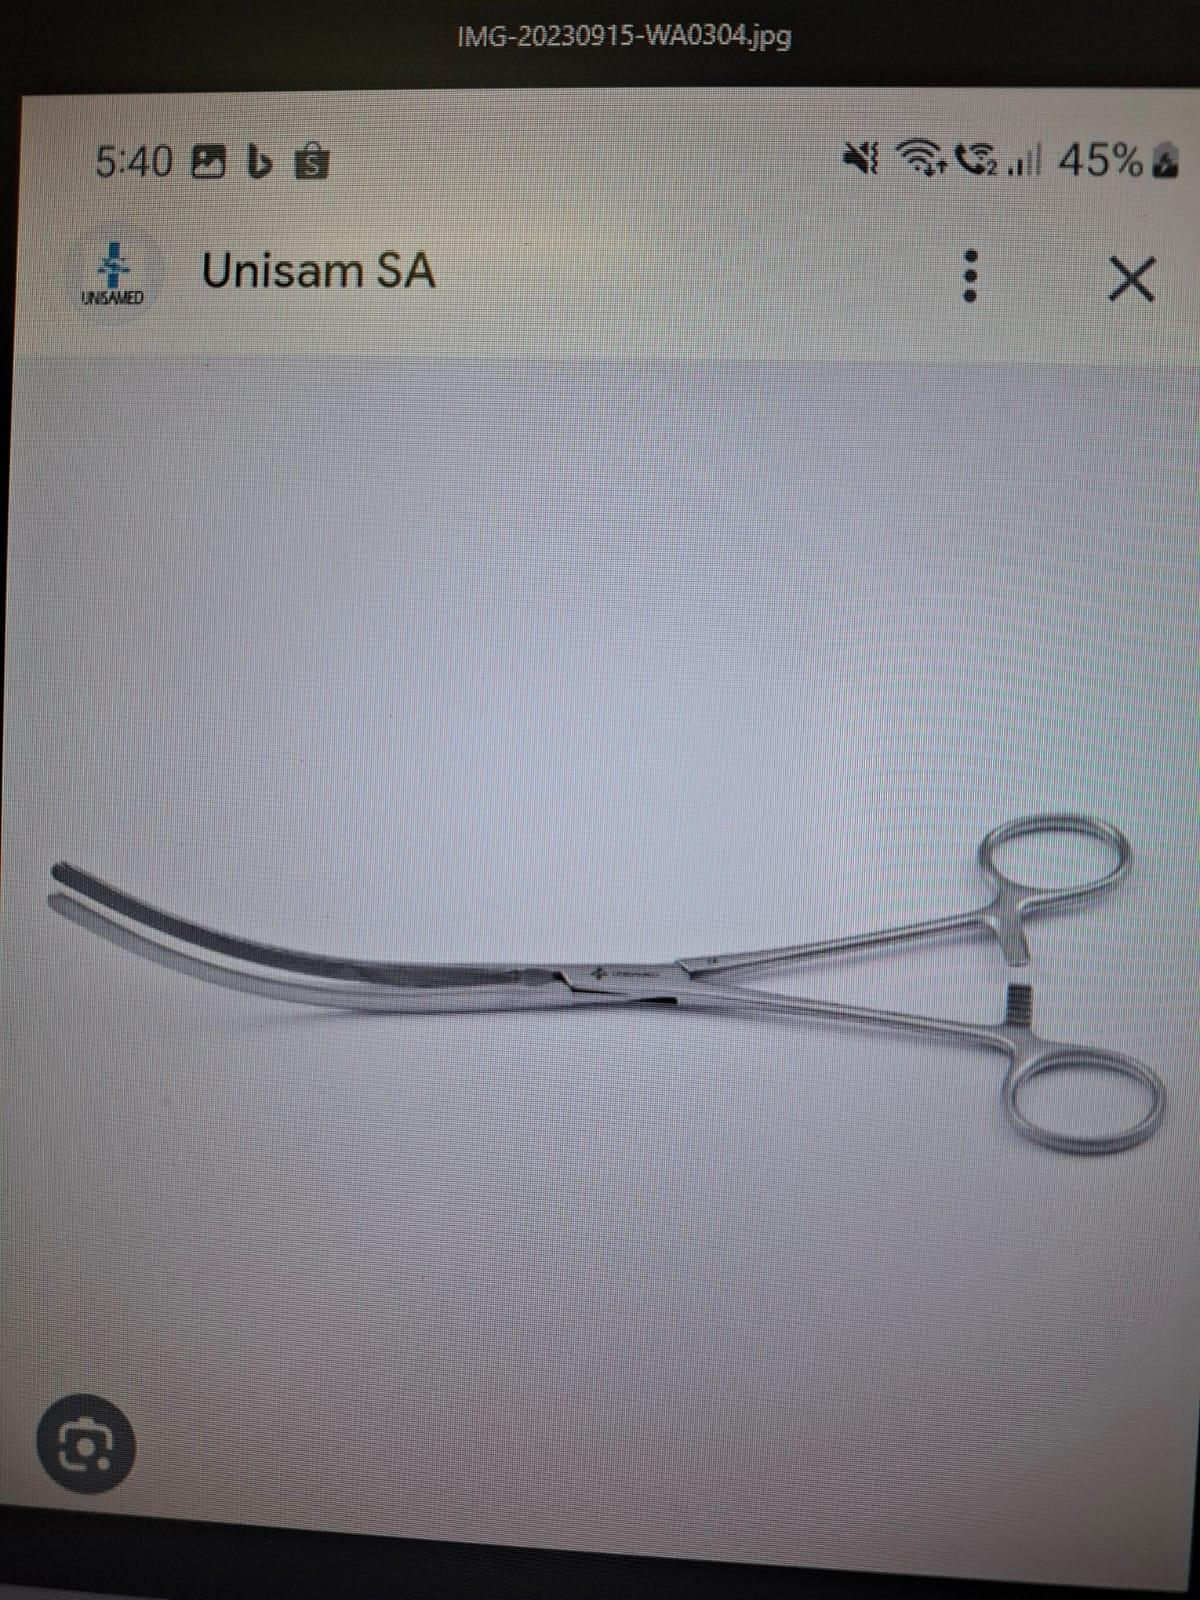Doyel Instestinal Forceps: (33, 787, 1180, 1168)
